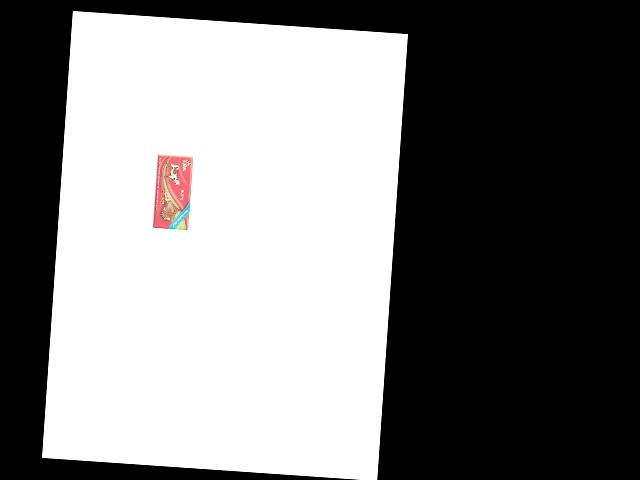chocolate: (153, 151, 193, 229)
